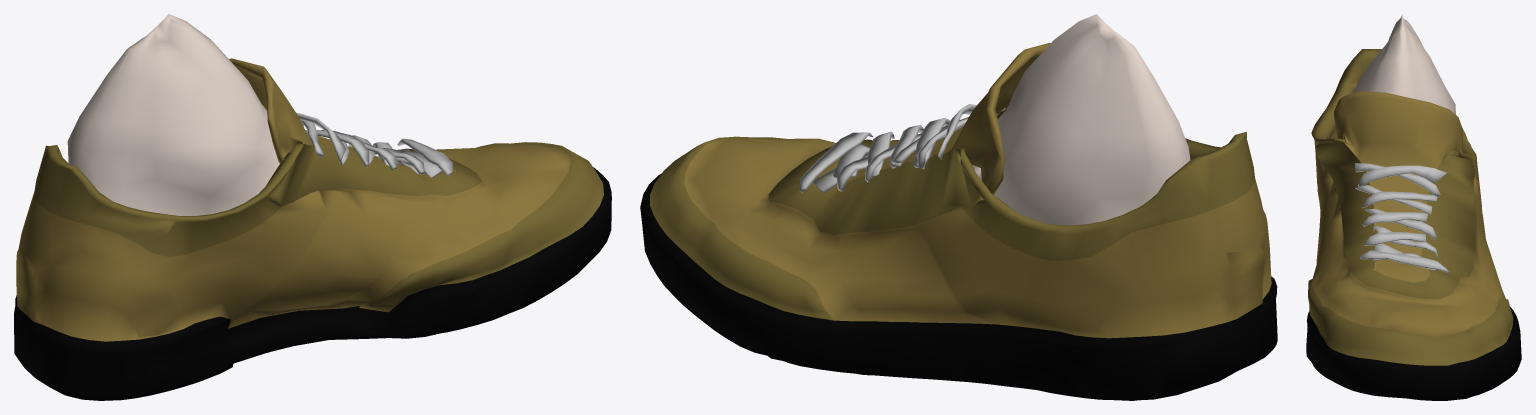
File: Foot.L.dae
3 renders of one model, left to right at view 1: azimuth 30°, elevation 25°; view 2: azimuth 150°, elevation 25°; view 3: azimuth 270°, elevation 25°, orthographic. The views are drawn at different scales.
Parts seen in each view (by area): view 1: Foot_L; view 2: Foot_L; view 3: Foot_L.
Boxes of the visible parts, bbox=[...] form: Foot_L: bbox=[14, 14, 611, 400]; Foot_L: bbox=[640, 14, 1277, 400]; Foot_L: bbox=[1306, 14, 1521, 400].
Bounding box in the file's own units: 0.3236 × 0.1378 × 0.1857.
